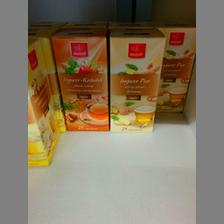Tee: (50, 27, 110, 131), (107, 28, 165, 132), (150, 19, 194, 111)
